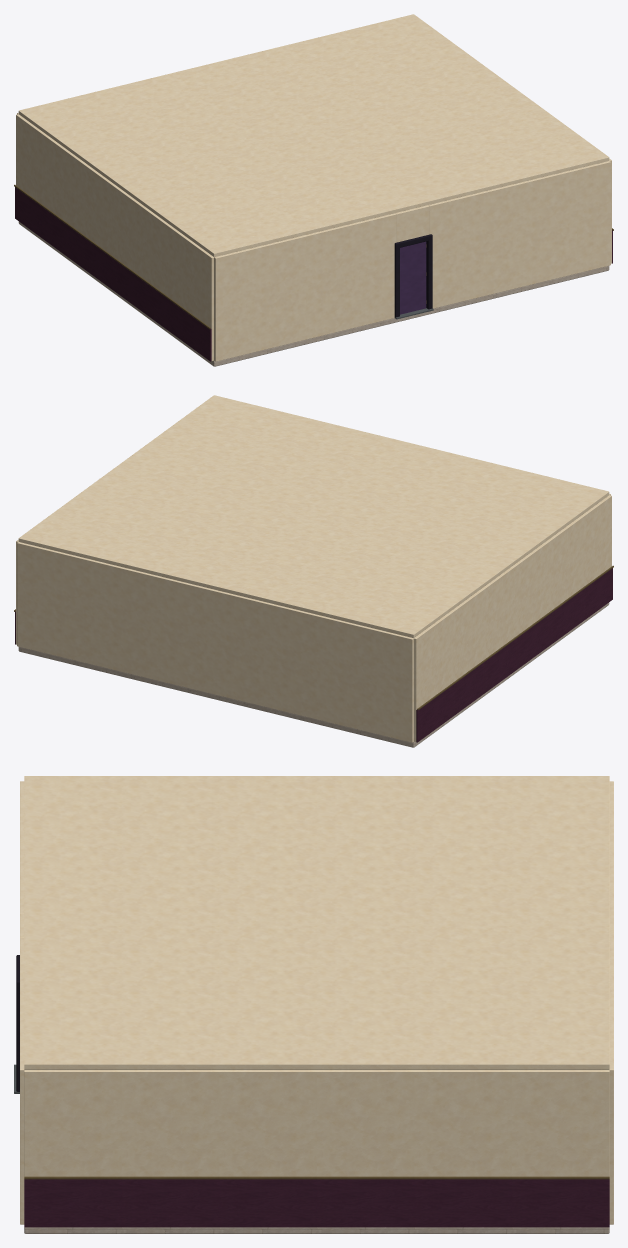
The model's file is explore3d__shelter_inner.glb.
3 views of the same model, one above another, from view 1: azimuth 30°, elevation 25°; view 2: azimuth 150°, elevation 25°; view 3: azimuth 270°, elevation 25° (orthographic). The views are drawn at different scales.
Visible parts, largest first — view 1: ceiling.043, wall.117, wall.116, wall.119, lower_panel.118, shelter_inner_floor, front.034_leaf, door_lintel.031, panel_rail.118, front.034_jamb; view 2: ceiling.043, wall.118, wall.119, lower_panel.118, shelter_inner_floor, panel_rail.118; view 3: ceiling.043, wall.120, lower_panel.119, shelter_inner_floor, panel_rail.119, wall.118, wall.116, wall.117.
Part boxes in pixels (x1,y1,x2,y2): ceiling.043: (18,14,609,257); wall.117: (214,213,396,361); wall.116: (428,161,610,308); wall.119: (16,114,213,360); lower_panel.118: (15,187,211,361); shelter_inner_floor: (18,221,609,366); front.034_leaf: (400,241,426,314); door_lintel.031: (395,205,429,242); panel_rail.118: (14,184,210,329); front.034_jamb: (426,238,432,309); ceiling.043: (18,395,609,638); wall.118: (17,542,413,742); wall.119: (414,495,611,741); lower_panel.118: (416,568,612,742); shelter_inner_floor: (18,602,609,747); panel_rail.118: (417,565,613,710); ceiling.043: (24,776,609,1069); wall.120: (24,1070,609,1176); lower_panel.119: (24,1179,609,1227); shelter_inner_floor: (24,1227,609,1233); panel_rail.119: (24,1176,609,1179); wall.118: (609,781,613,1224); wall.116: (20,938,24,1224); wall.117: (20,781,24,913).
Size of the model in its own units: 14.32 by 3.84 by 12.3.
12 materials, 11 textured.
